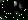person: (16, 3, 23, 15)
